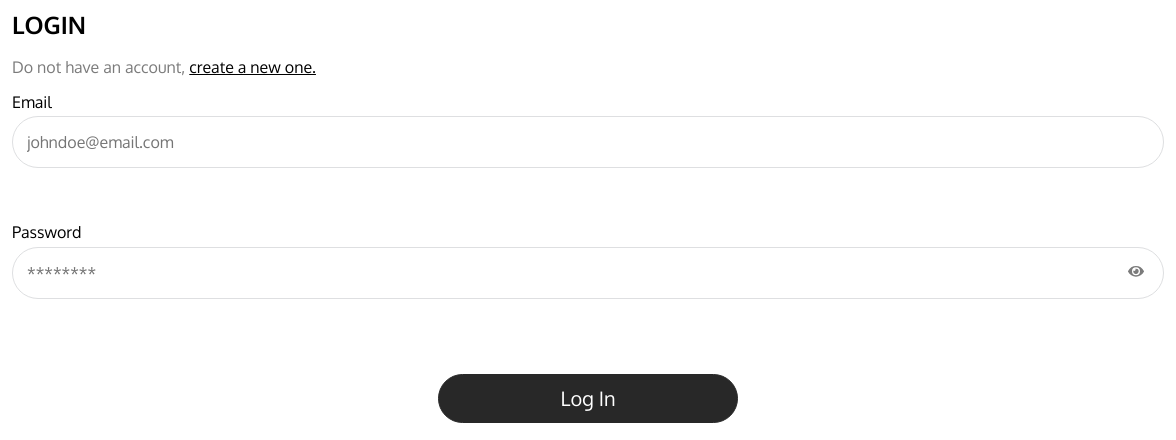
Test case: LoginForm › should show error "Password must contain at least one uppercase letter." for password value "abcdewer"
Type "abcdewer" into the password field labelled "Password". click: {"x": 588, "y": 273}
box: [12,247,1164,299]
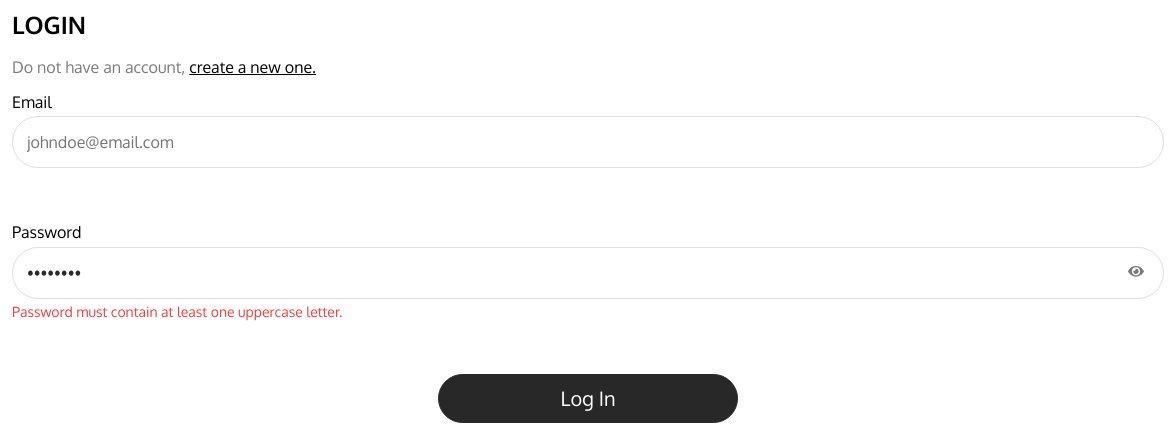
Expected: the text "Password must contain at least one uppercase letter." is shown, [12,303,342,320]
